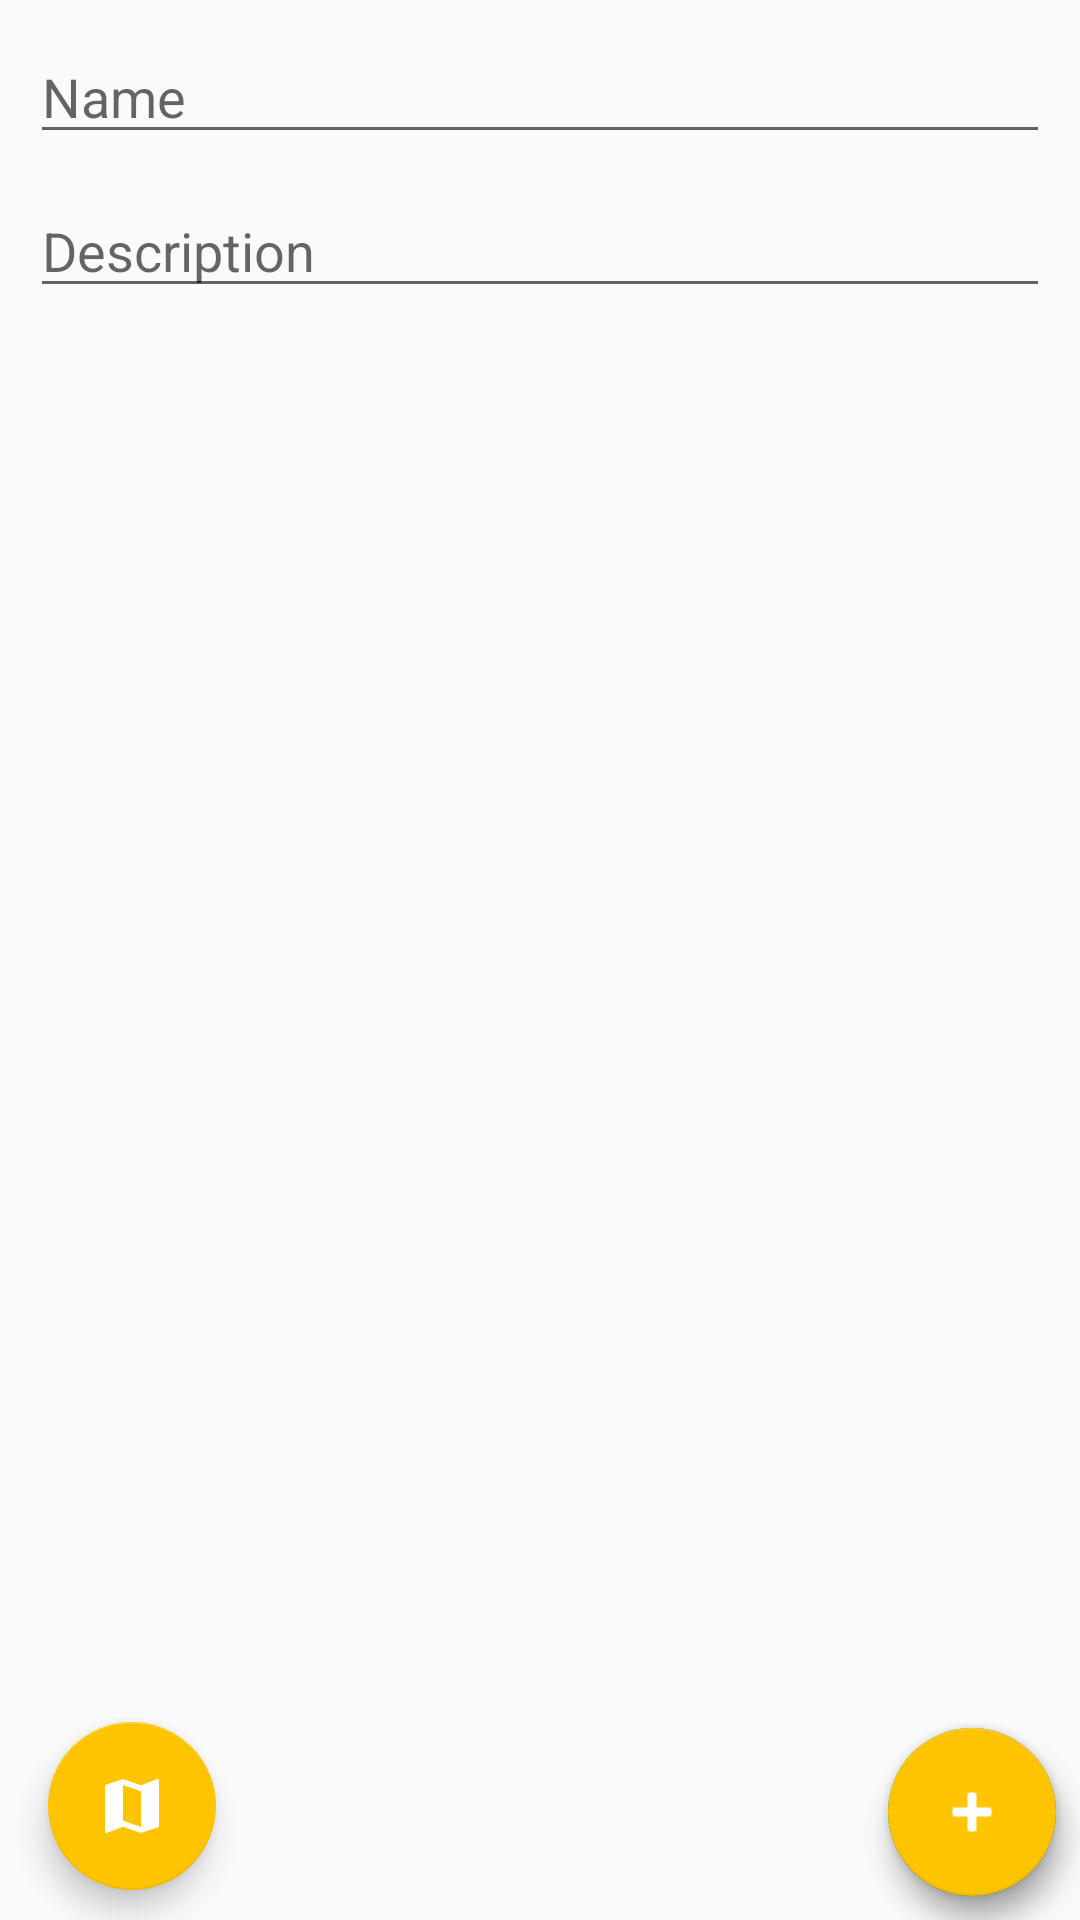

Icon click points for this 1080 x 1920 phone screenshot, format point (x, y):
flightplaner: point (132, 1806)
